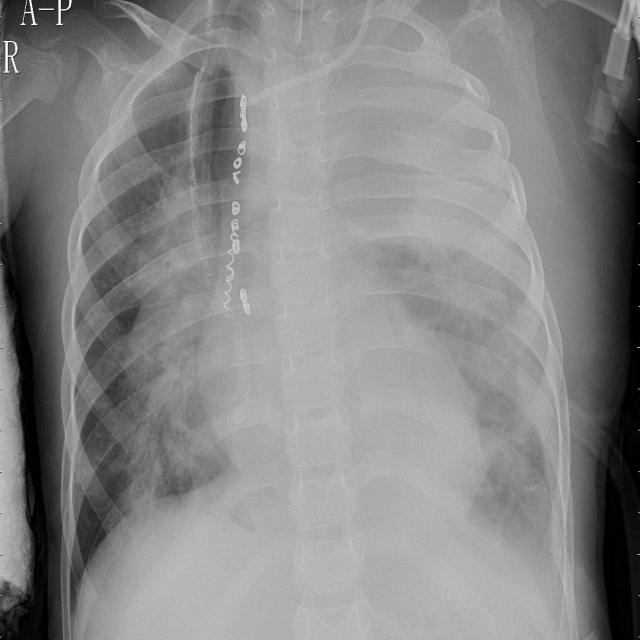high-pneumonia: (326, 28, 529, 388)
low-pneumonia: (113, 359, 228, 513), (119, 188, 222, 355), (480, 383, 567, 568), (143, 45, 224, 184)
